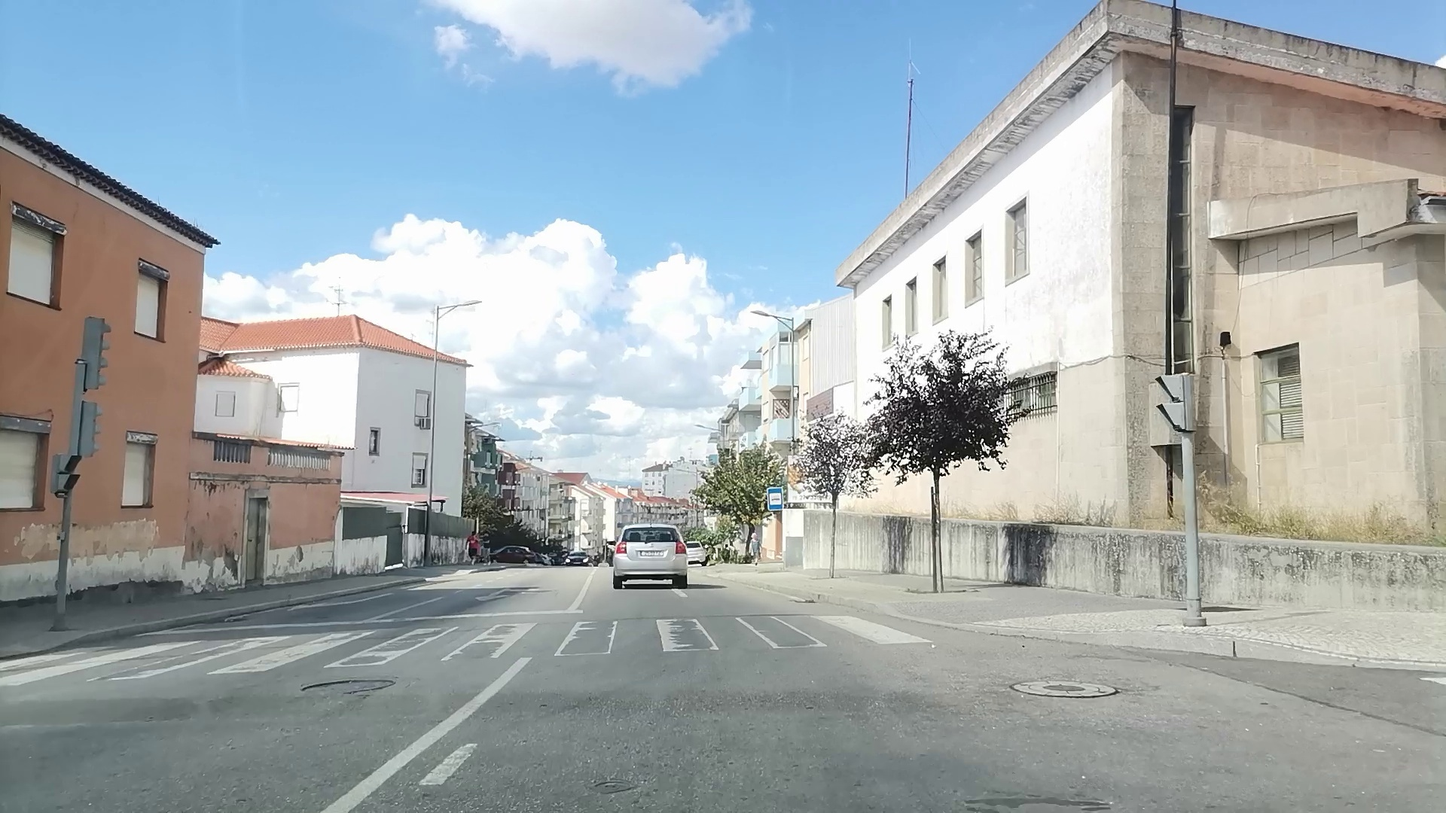Stairs: (0, 610, 934, 686)
